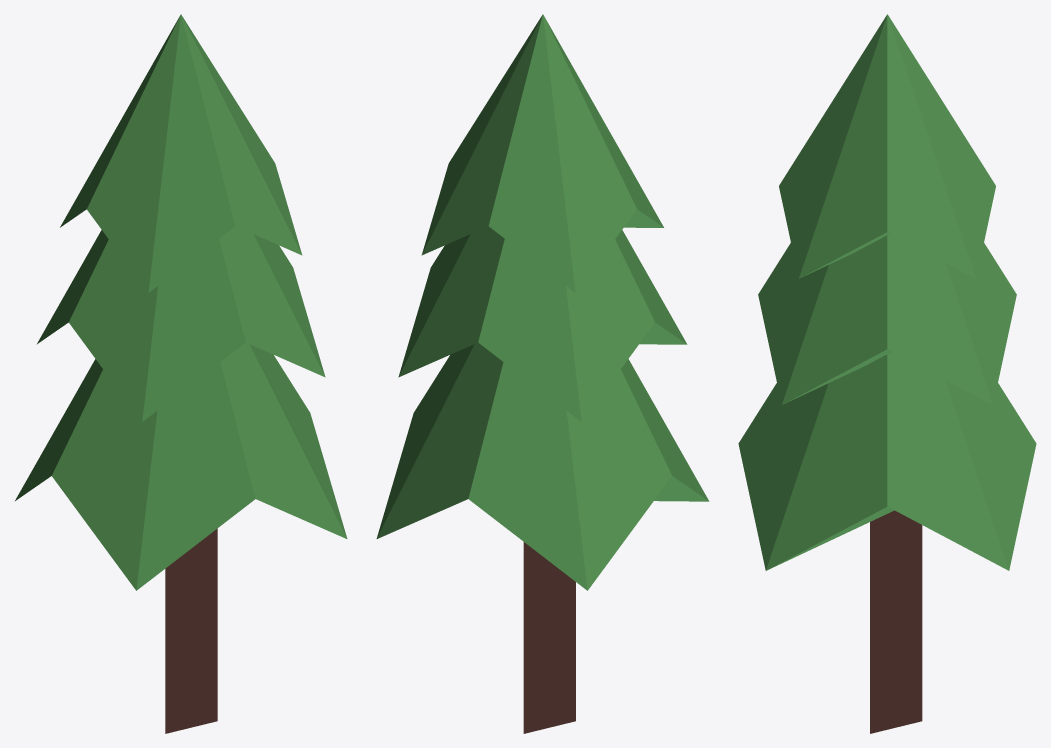
Rendered from fbtree_1.fbx.
The picture shows the model from 3 angles, left to right: view 1: azimuth 30°, elevation 25°; view 2: azimuth 150°, elevation 25°; view 3: azimuth 270°, elevation 25°; orthographic projection.
Parts seen in each view (by area): view 1: Cylinder; view 2: Cylinder; view 3: Cylinder.
Part boxes in pixels (x1,y1,x2,y2): Cylinder: (15,14,347,733); Cylinder: (376,14,709,733); Cylinder: (738,14,1036,733).
Bounding box in the file's own units: 110 × 288 × 110.
